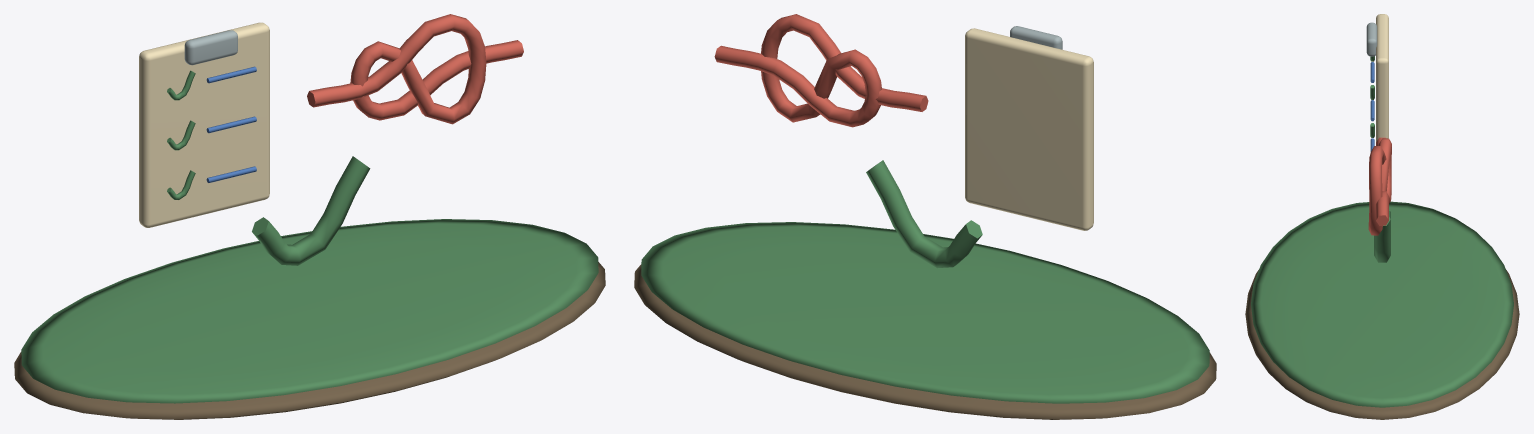
File: complete-second-reason-untied.glb
3 renders of one model, left to right at view 1: azimuth 30°, elevation 25°; view 2: azimuth 150°, elevation 25°; view 3: azimuth 270°, elevation 25°, orthographic. The views are drawn at different scales.
Parts seen in each view (by area): view 1: complete-second-reason-untied_surface_01, complete-second-reason-untied_surface_02, complete-second-reason-untied_surface_00, complete-second-reason-untied_surface_05, complete-second-reason-untied_surface_03, complete-second-reason-untied_surface_04; view 2: complete-second-reason-untied_surface_01, complete-second-reason-untied_surface_02, complete-second-reason-untied_surface_00, complete-second-reason-untied_surface_05, complete-second-reason-untied_surface_03; view 3: complete-second-reason-untied_surface_01, complete-second-reason-untied_surface_00, complete-second-reason-untied_surface_05, complete-second-reason-untied_surface_02, complete-second-reason-untied_surface_03.
Boxes of the visible parts, <box> form: complete-second-reason-untied_surface_01: <box>21,70,598,403</box>; complete-second-reason-untied_surface_02: <box>139,22,269,227</box>; complete-second-reason-untied_surface_00: <box>14,262,605,419</box>; complete-second-reason-untied_surface_05: <box>307,14,523,124</box>; complete-second-reason-untied_surface_03: <box>184,30,237,65</box>; complete-second-reason-untied_surface_04: <box>206,66,256,182</box>; complete-second-reason-untied_surface_01: <box>641,160,1209,403</box>; complete-second-reason-untied_surface_02: <box>965,28,1093,230</box>; complete-second-reason-untied_surface_00: <box>634,264,1216,419</box>; complete-second-reason-untied_surface_05: <box>714,14,928,127</box>; complete-second-reason-untied_surface_03: <box>1010,26,1062,49</box>; complete-second-reason-untied_surface_01: <box>1251,56,1513,407</box>; complete-second-reason-untied_surface_00: <box>1245,270,1519,419</box>; complete-second-reason-untied_surface_05: <box>1368,137,1391,235</box>; complete-second-reason-untied_surface_02: <box>1376,14,1388,141</box>; complete-second-reason-untied_surface_03: <box>1366,22,1377,56</box>.
Bounding box in the file's own units: 4.56 × 2.59 × 2.5.
